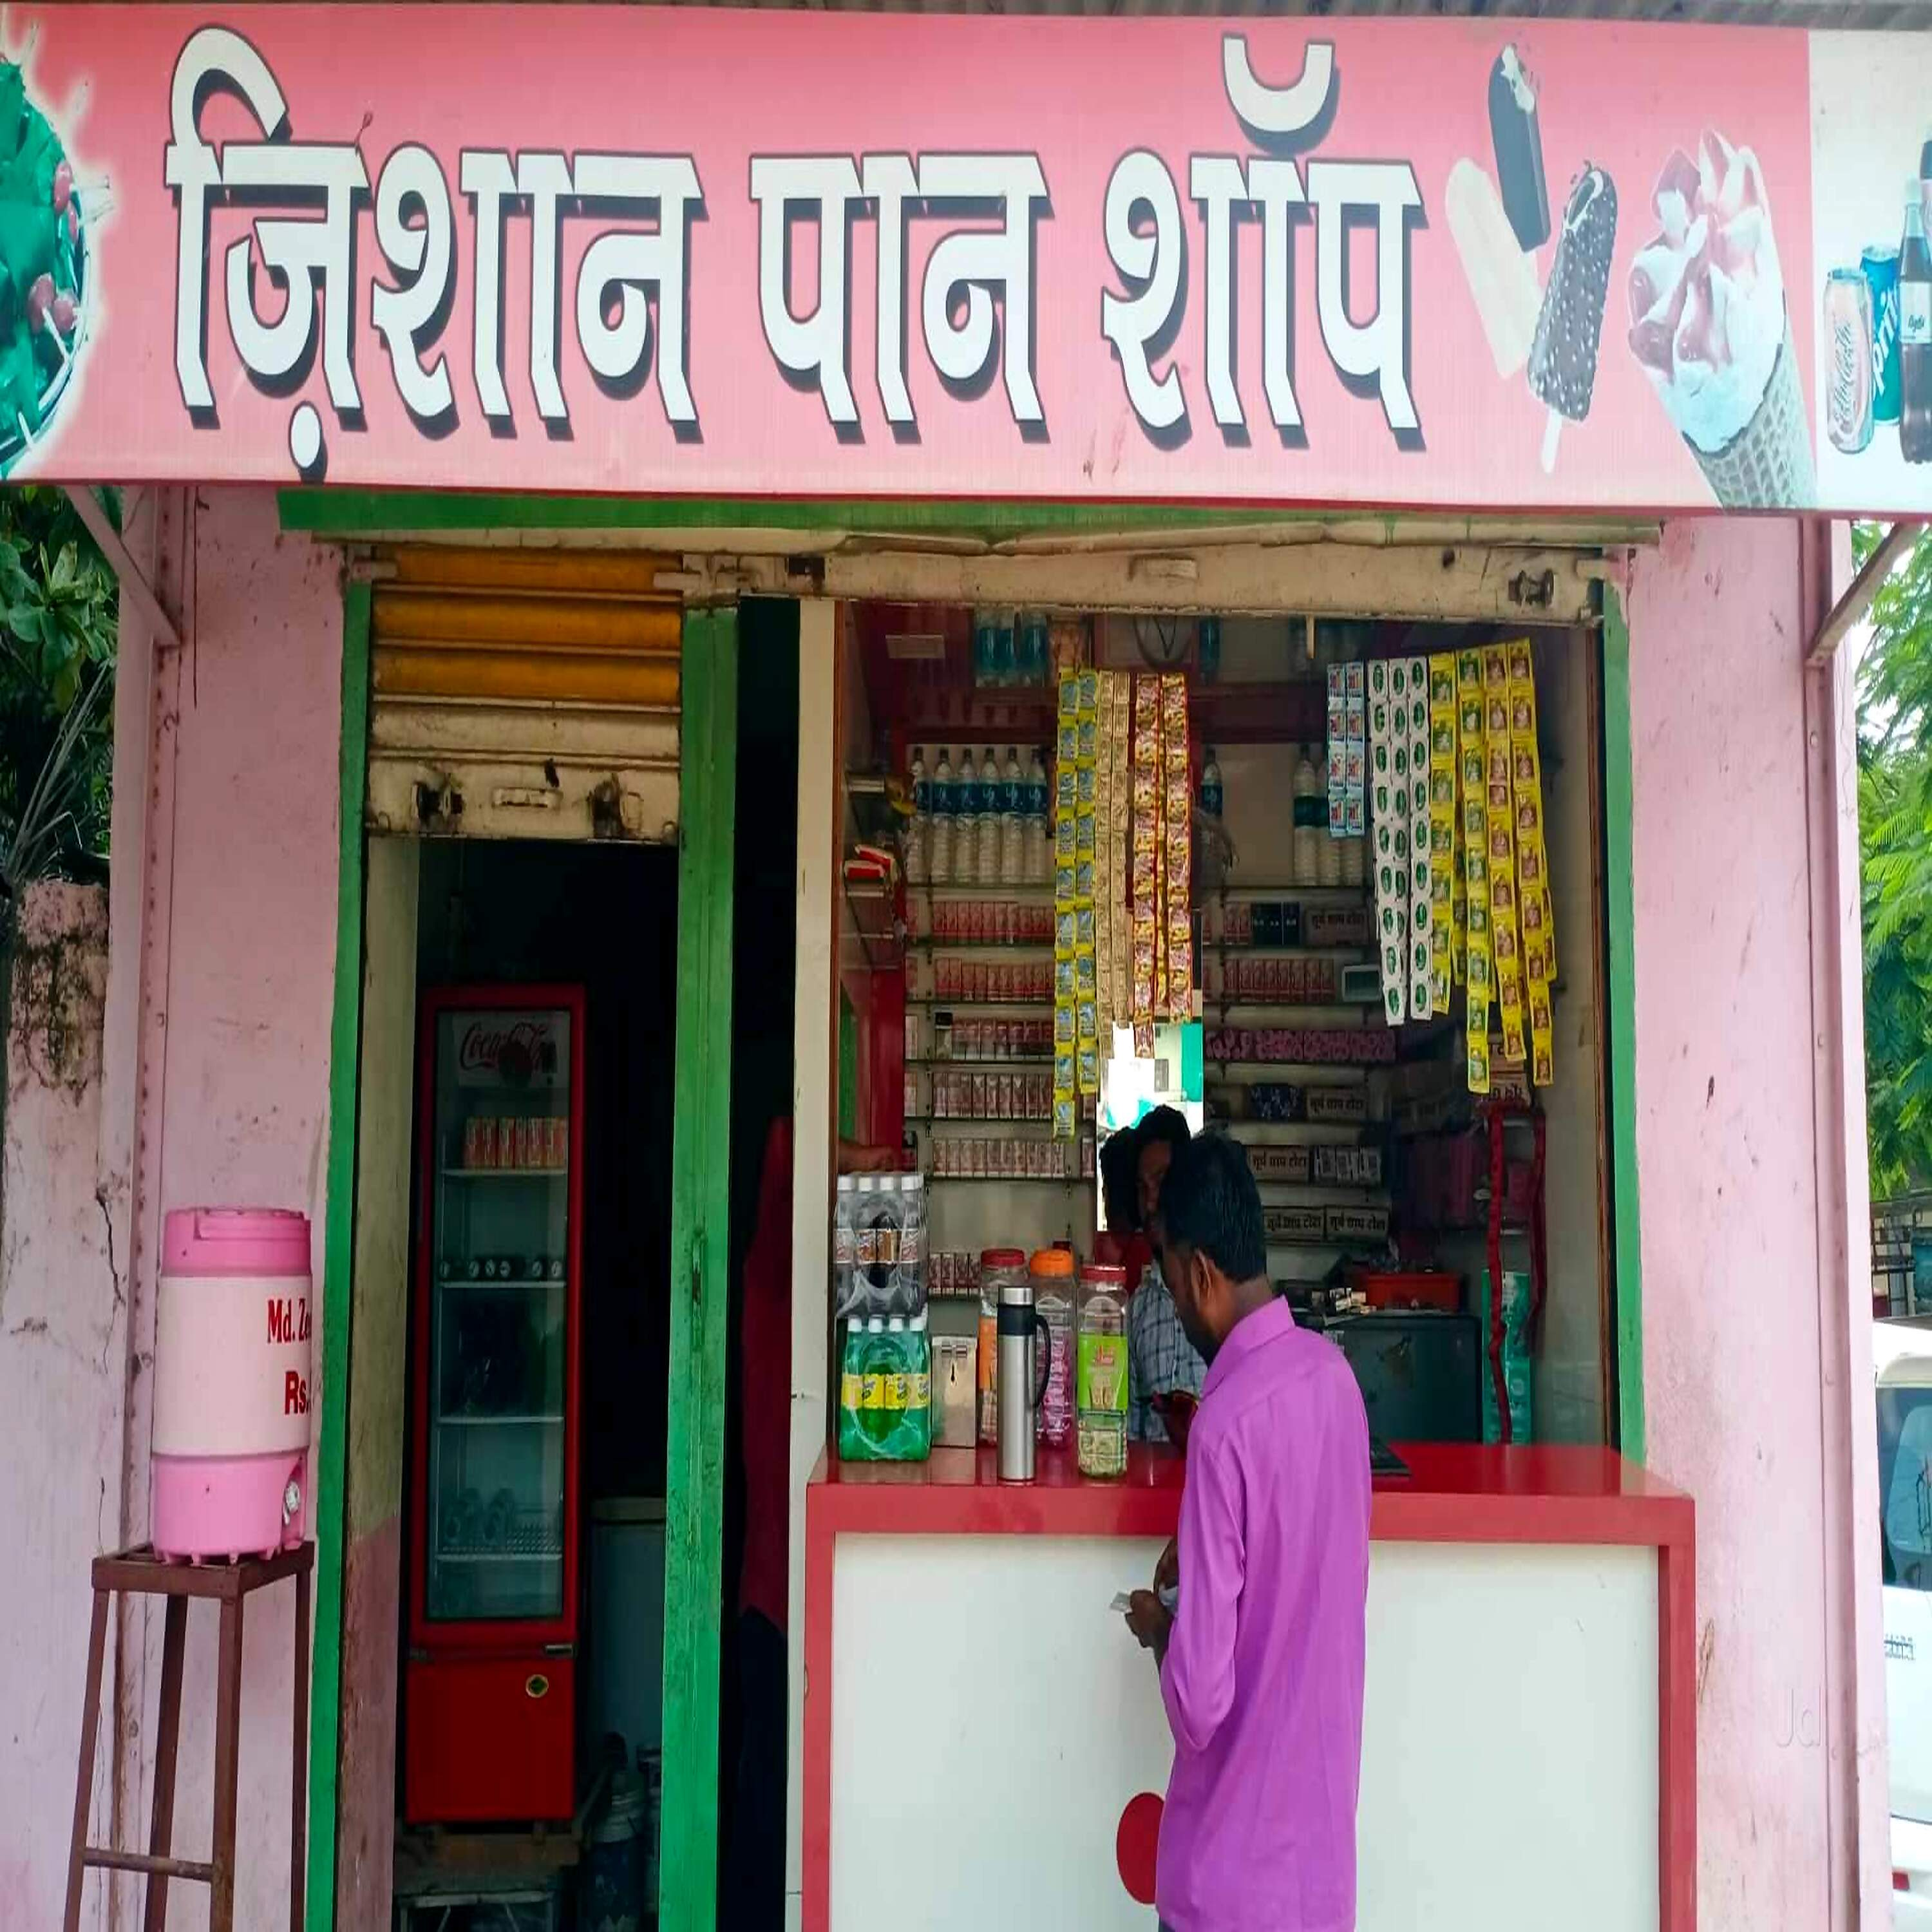text: (14, 5, 1920, 510)
